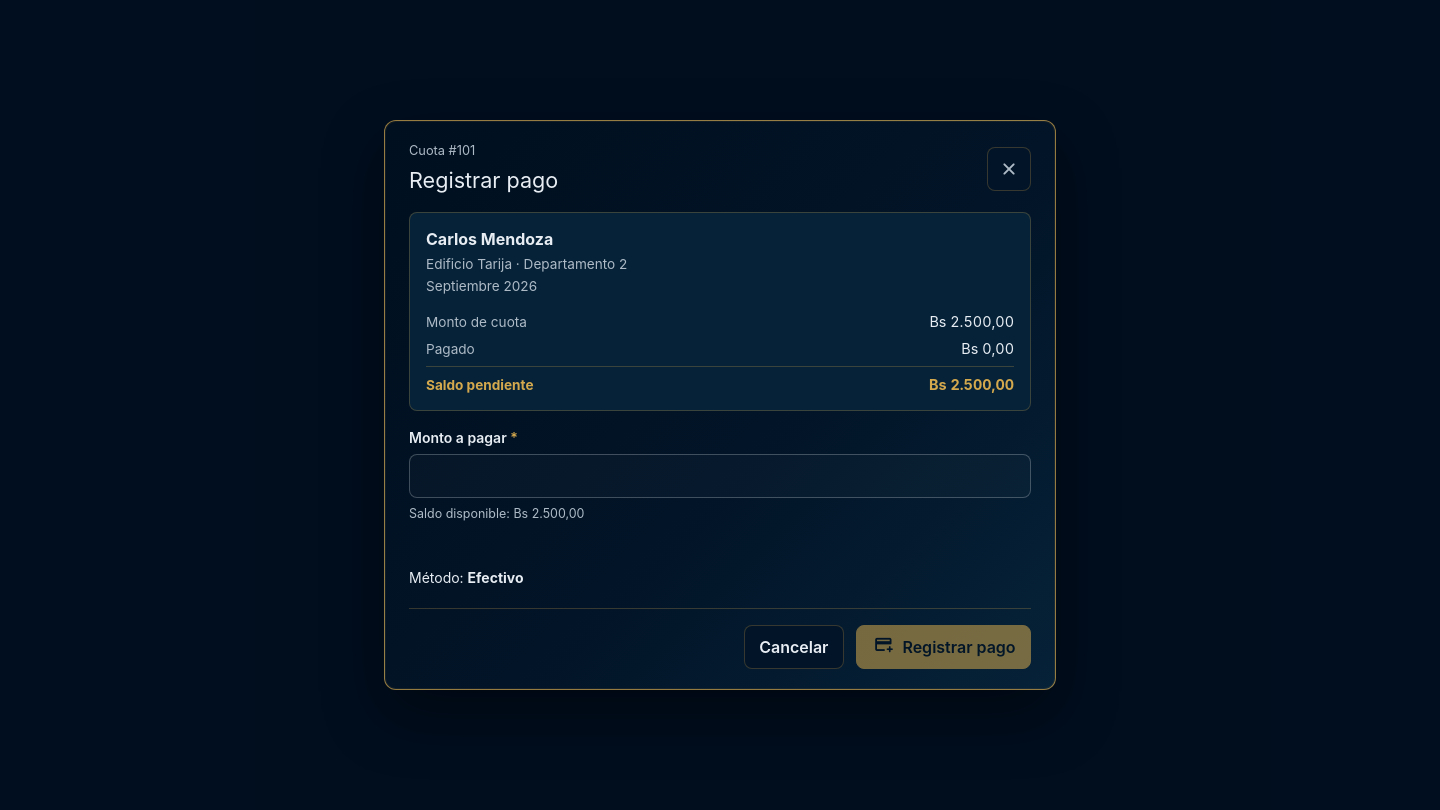
Test: RegistrarPagoModalComponent › shows the expected inline message for HTTP 413
Type "500" into the field labelled "Monto a pagar *" at (720, 476), box [409,454,1031,498]
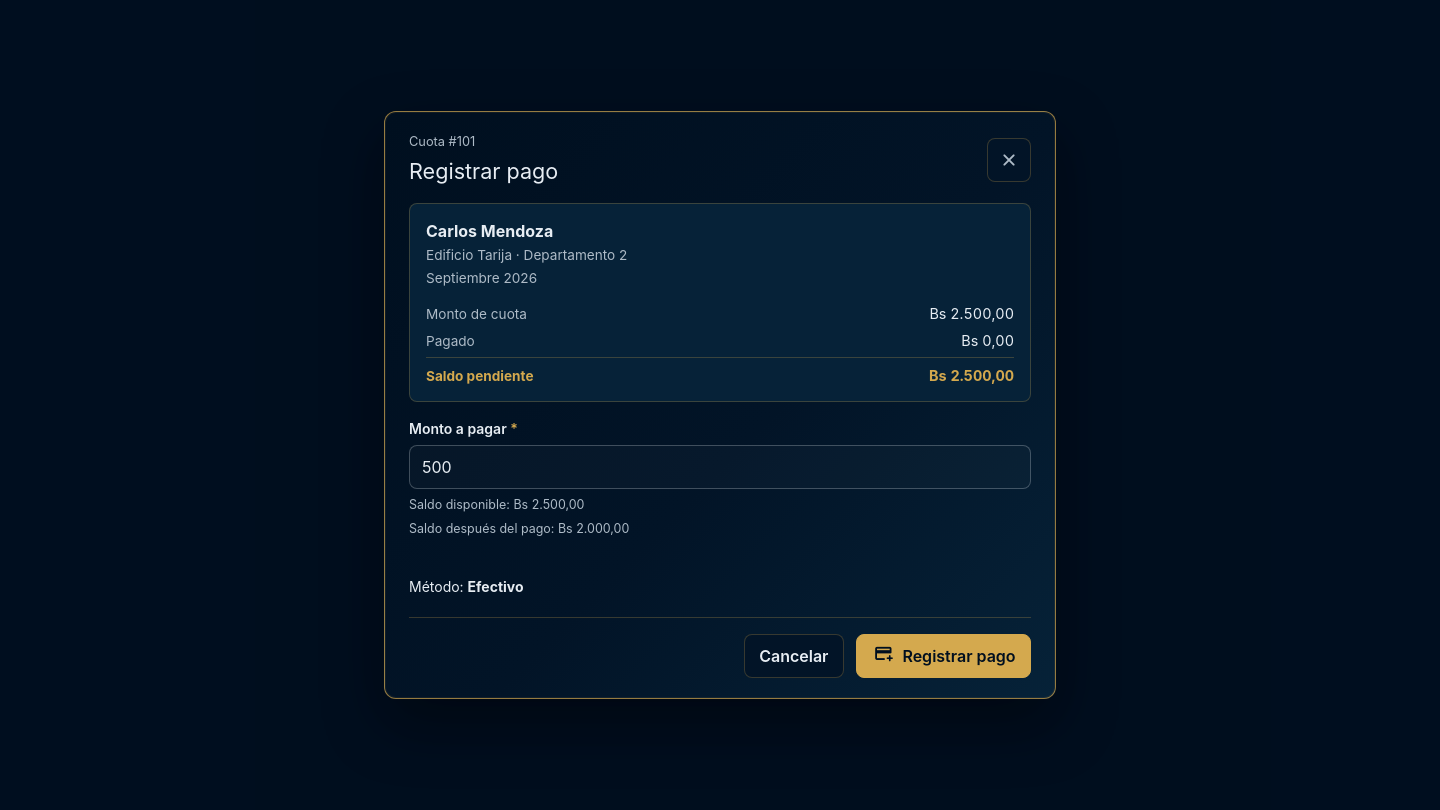
Click the button with id "register-payment-submit" at (943, 656), box [856,634,1031,678]
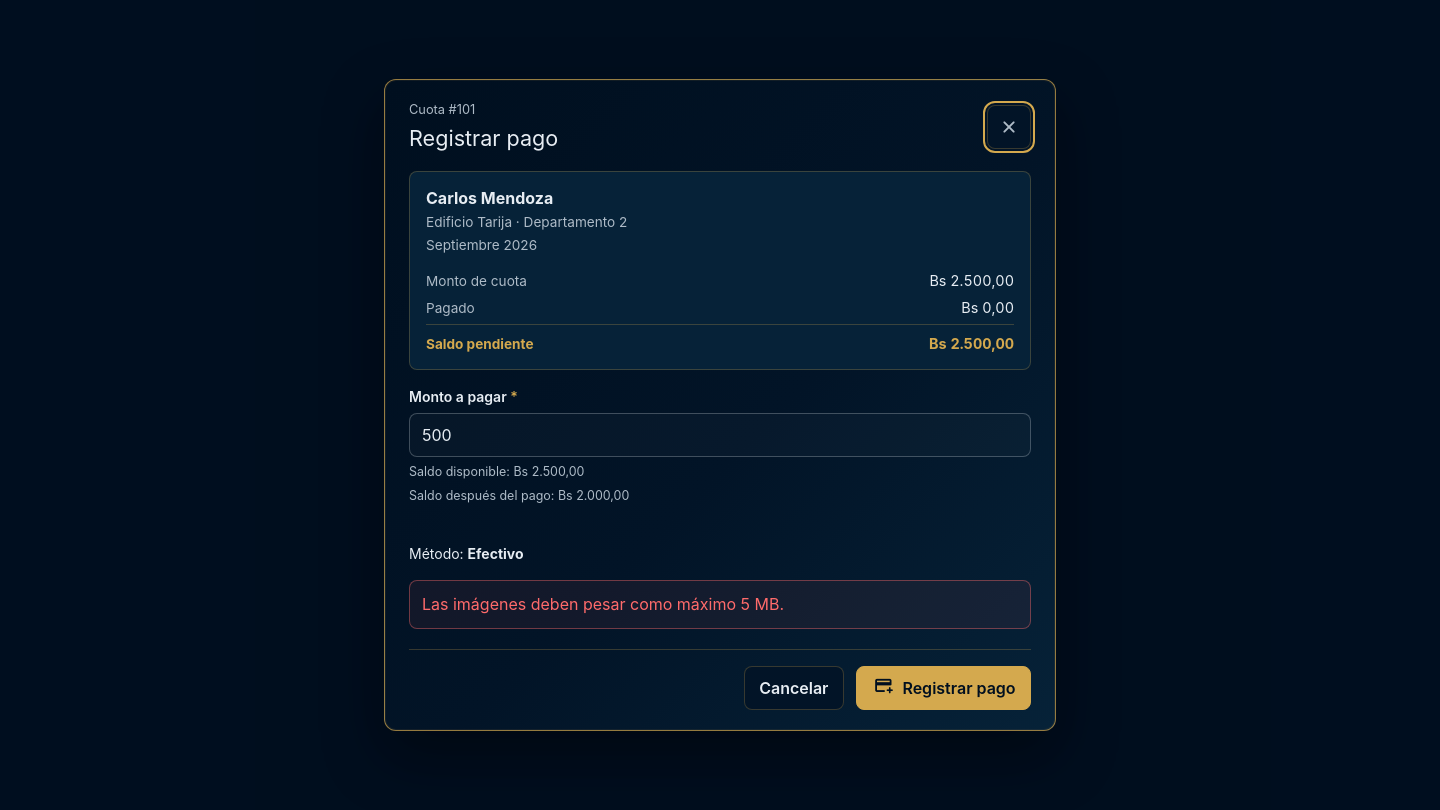
Expected: the text "Las imágenes deben pesar como máximo 5 MB." is shown, [409,580,1031,629]
